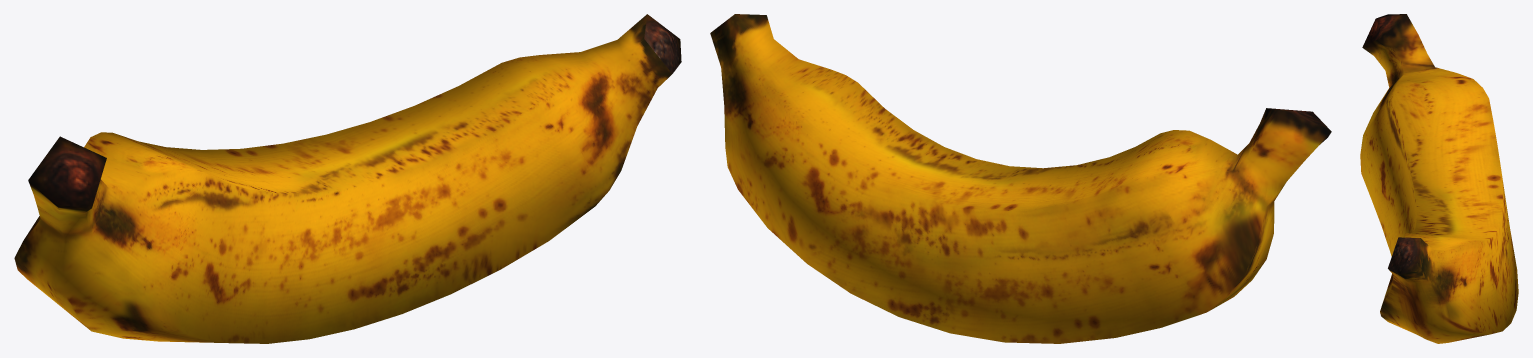
File: Banana_mesh.FBX
3 renders of one model, left to right at view 1: azimuth 30°, elevation 25°; view 2: azimuth 150°, elevation 25°; view 3: azimuth 270°, elevation 25°, orthographic. The views are drawn at different scales.
Parts seen in each view (by area): view 1: Banana; view 2: Banana; view 3: Banana.
Boxes of the visible parts, x1=… form: Banana: x1=14, y1=14, x2=681, y2=343; Banana: x1=710, y1=14, x2=1331, y2=343; Banana: x1=1360, y1=14, x2=1518, y2=343.
Bounding box in the file's own units: 0.3319 × 0.1334 × 0.0973.
1 material, 1 textured.
